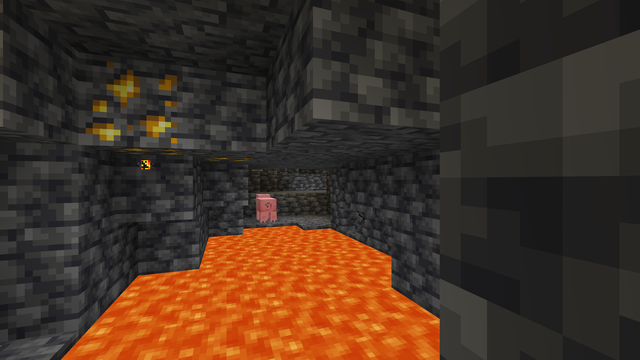cochons: (253, 196, 278, 221)
